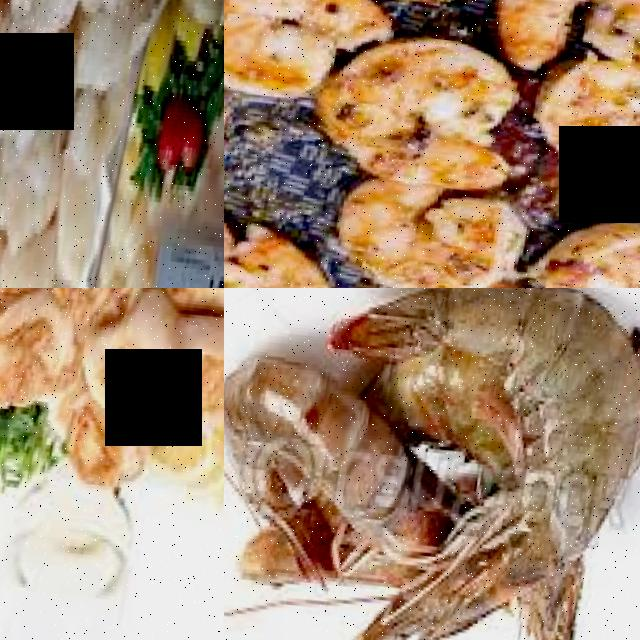sea scallops: (81, 294, 175, 415), (0, 294, 72, 414), (166, 309, 224, 414)
shrimp: (494, 288, 640, 565), (328, 288, 638, 401), (224, 348, 407, 530), (5, 0, 99, 54)
spinach: (309, 35, 518, 196), (322, 180, 529, 288), (525, 47, 640, 195), (224, 0, 377, 107), (490, 0, 640, 72), (524, 215, 640, 288)
